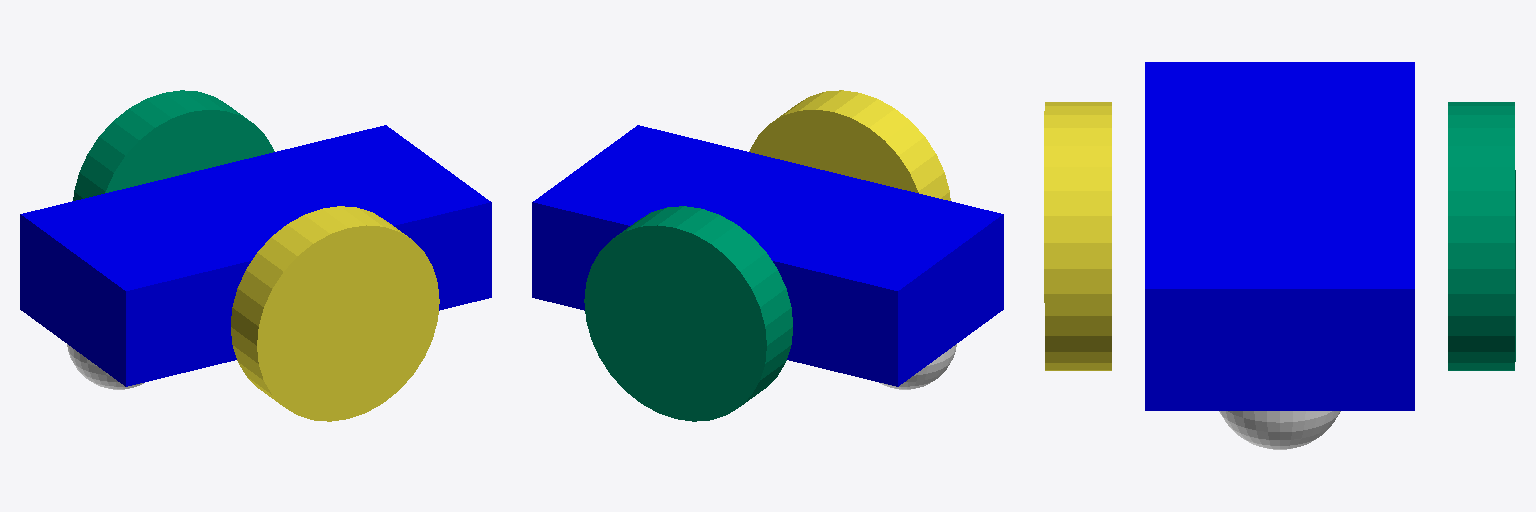
URDF robot description (diffrobot):
<?xml version='1.0'?>

<robot name="diffrobot">

  
<link name="robot_footprint">
</link>

    
    <joint name="robot_footprint_joint" type="fixed">
        <origin xyz="0 0 0.0" rpy="0 0 0" />
        <parent link="robot_footprint"/>
        <child link="base_link"/>
    </joint>

    <link name="base_link">
        <inertial>
            <origin xyz="0.0 0.0 0.0" rpy="0.0 0.0 0.0"/>
            <mass value="5.0"/>
            <inertia ixx="0.0" ixy="0.0" ixz="0.0" iyy="0.0" iyz="0.0" izz="0.0"/>
        </inertial>
        <visual name="base_link_visual">
            <origin xyz="0.0 0.0 0.0" rpy="0.0 0.0 0.0"/>
            <geometry>
                <box size="0.4 0.2 0.1"/>
            </geometry>
            <material name="">
                <color rgba="0.0 0.0 1.0 1.0"/>
                <texture filename=""/>
            </material>
        </visual>
        <collision>
            <origin xyz="0.0 0.0 0.0" rpy="0.0 0.0 0.0"/>
            <geometry>
                <box size="0.4 0.2 0.1"/>
            </geometry>
        </collision>
    </link>

    <link name="left_wheel">
        <inertial>
            <origin xyz="0.0 0.0 0.0" rpy="0.0 1.5707 1.5707"/>
            <mass value="5.0"/>
            <inertia ixx="0.1" ixy="0.0" ixz="0.0" iyy="0.1" iyz="0.0" izz="0.1"/>
        </inertial>
        <visual name="left_wheel_visual">
            <origin xyz="0.0 0.0 0.0" rpy="0.0 0.0 0.0"/>
            <geometry>
                <cylinder radius="0.1" length="0.05"/>
            </geometry>
        </visual>
        <collision name='left_wheel_collision'>
            <origin xyz="0.0 0.0 0.0" rpy="0.0 0.0 0.0"/>
            <geometry>
                <cylinder radius="0.1" length="0.05"/>
            </geometry>
        </collision>
    </link>

    <link name="right_wheel">
        <inertial>
            <origin xyz="0.0 0.0 0.0" rpy="0.0 0.0 0.0"/>
            <mass value="5.0"/>
            <inertia ixx="0.1" ixy="0.0" ixz="0.0" iyy="0.1" iyz="0.0" izz="0.1"/>
        </inertial>
        <visual name="right_wheel_visual">
            <origin xyz="0.0 0.0 0.0" rpy="0.0 0.0 0.0"/>
            <geometry>
                <cylinder radius="0.1" length="0.05"/>
            </geometry>
        </visual>
        <collision name='right_wheel_collision'>
            <origin xyz="0.0 0.0 0.0" rpy="0.0 0.0 0.0"/>
            <geometry>
                <cylinder radius="0.1" length="0.05"/>
            </geometry>
        </collision>
    </link>

    <joint name="wheel_left_joint" type="continuous">
        <origin xyz="0.0 0.15 0.0" rpy="0.0 1.5705 1.5705"/>
        <parent link="base_link"/>
        <child link="left_wheel"/>
        <axis xyz="0.0 0.0 1.0"/>

    </joint>


    <joint name="wheel_right_joint" type="continuous">
        <origin xyz="0.0 -0.15 0.0" rpy="0.0 1.5705 1.5705"/>
        <parent link="base_link"/>
        <child link="right_wheel"/>
        <axis xyz="0.0 0.0 1.0"/>

    </joint>


    <link name="front_caster">
        <inertial>
            <origin xyz="0.0 0.0 0.0" rpy="0.0 0.0 0.0"/>
            <mass value="0.2"/>
            <inertia ixx="0.002526666666667" ixy="0" ixz="0" iyy="0.002526666666667" iyz="0" izz="0.005"/>
        </inertial>
        <visual name="front_caster_visual">
            <origin xyz="0.0 0.0 0.0" rpy="0.0 0.0 0.0"/>
            <geometry>
                <sphere radius="0.0499"/>
            </geometry>
            <material name="">
                <color rgba="1.0 1.0 1.0 1.0"/>
                <texture filename=""/>
            </material>
        </visual>
        <collision>
            <origin xyz="0.0 0.0 0.0" rpy="0.0 0.0 0.0"/>
            <geometry>
                <sphere radius="0.0499"/>
            </geometry>
        </collision>
    </link>

    <joint name="front_caster_joint" type="fixed">
        <origin xyz="0.15 0.0 -0.05" rpy="0.0 0.0 0.0"/>
        <parent link="base_link"/>
        <child link="front_caster"/>
        <axis xyz="0.0 0.0 0.0"/>


    </joint>

    <gazebo reference="front_caster_joint">
        <preserveFixedJoint>true</preserveFixedJoint>
    </gazebo>
    <link name="back_caster">
            <inertial>
                <origin xyz="0.0 0.0 0.0" rpy="0.0 0.0 0.0"/>
                <mass value="0.2"/>
                <inertia ixx="0.002526666666667" ixy="0" ixz="0" iyy="0.002526666666667" iyz="0" izz="0.005"/>
            </inertial>
            <visual name="back_caster_visual">
                <origin xyz="0.0 0.0 0.0" rpy="0.0 0.0 0.0"/>
                <geometry>
                    <sphere radius="0.0499"/>
                </geometry>
                <material name="">
                    <color rgba="1.0 1.0 1.0 1.0"/>
                    <texture filename=""/>
                </material>
            </visual>
            <collision>
                <origin xyz="0.0 0.0 0.0" rpy="0.0 0.0 0.0"/>
                <geometry>
                    <sphere radius="0.0499"/>
                </geometry>
            </collision>
    </link>

    <joint name="back_caster_joint" type="fixed">
        <origin xyz="-0.15 0.0 -0.05" rpy="0.0 0.0 0.0"/>
        <parent link="base_link"/>
        <child link="back_caster"/>
        <axis xyz="0.0 0.0 0.0"/>



    </joint>
    <gazebo reference="back_caster_joint">
        <preserveFixedJoint>true</preserveFixedJoint>
    </gazebo>

    <link name="lidar_link">
        <inertial>
            <origin xyz="0.0 0.0 0.0" rpy="0.0 0.0 0.0"/>
            <mass value="0.1"/>
            <inertia ixx="0.002526666666667" ixy="0" ixz="0" iyy="0.002526666666667" iyz="0" izz="0.005"/>
        </inertial>
        <visual name="lidar_link_visual">
            <origin xyz="0.0 0.0 0.0" rpy="0.0 0.0 0.0"/>
            <geometry>
                <mesh filename="package://diffrobot_description/meshes/lidar_link.STL"/>
            </geometry>
            <material name="">
                <color rgba="1.0 0.0 0.0 1.0"/>
                <texture filename=""/>
            </material>
        </visual>
        <collision>
            <origin xyz="0.0 0.0 0.0" rpy="0.0 0.0 0.0"/>
            <geometry>
                <box size="0.1 0.1 0.1"/>
            </geometry>
        </collision>
    </link>

    <joint name="lidar_joint" type="fixed">
        <origin xyz="0.11 0.0 0.12" rpy="1.5708 0.0 1.5708"/>
        <parent link="base_link"/>
        <child link="lidar_link"/>
    </joint>

    <link name="laser">
        <inertial>
            <origin xyz="0.0 0.0 0.0" rpy="0.0 0.0 0.0"/>
            <mass value="0.1"/>
            <inertia ixx="0.002526666666667" ixy="0" ixz="0" iyy="0.002526666666667" iyz="0" izz="0.005"/>
        </inertial>
        
    </link>

    <joint name="laser_data_joint" type="fixed">
        <origin xyz="0.0 0.0 0.0" rpy="0.0 -1.5708 -1.5708"/>
        <parent link="lidar_link"/>
        <child link="laser"/>
    </joint>


    <link name="imu_link">
        <inertial>
            <origin xyz="0.0 0.0 0.0" rpy="0.0 0.0 0.0"/>
            <mass value="0.0"/>
            <inertia ixx="0.002526666666667" ixy="0" ixz="0" iyy="0.002526666666667" iyz="0" izz="0.005"/>
        </inertial>
        <visual name="">
            <origin xyz="0.0 0.0 0.0" rpy="0.0 0.0 0.0"/>
            <geometry>
                <box size="0.02 0.02 0.02"/>
            </geometry>
            <material name="">
                <color rgba="1.0 0.0 0.0 1.0"/>
                <texture filename=""/>
            </material>
        </visual>
        <collision>
            <origin xyz="0.0 0.0 0.0" rpy="0.0 0.0 0.0"/>
            <geometry>
                <box size="0.02 0.02 0.02"/>
            </geometry>
        </collision>
    </link>
    <joint name="imu_joint" type="fixed">
        <origin xyz="0.0 0.0 0.0" rpy="0.0 0.0 0.0"/>
        <parent link="base_link"/>
        <child link="imu_link"/>
    </joint>





<!-- Materials and friction -->

<gazebo reference="base_link">
    <visual>
        <material> <!-- Blue -->
            <ambient>0.0 0.0 1.0 1.0</ambient>
            <diffuse>0.0 0.0 1.0 1.0</diffuse>
            <specular>0.0 0.0 0.0 1.0</specular>
            <emissive>0.0 0.0 0.0 1.0</emissive>
        </material>
    </visual>
    
</gazebo>

<gazebo reference="right_wheel">
    <visual>
        <material> <!-- Gray -->
            <ambient>0.25 0.25 0.25 1.0</ambient>
            <diffuse>0.25 0.25 0.25 1.0</diffuse>
            <specular>0.0 0.0 0.0 1.0</specular>
            <emissive>0.0 0.0 0.0 1.0</emissive>
        </material>
    </visual>
    <collision>
        <surface>
            <friction>
                <ode>
                    <mu>0.0</mu>
                    <mu2>0.0</mu2>
                </ode>
            </friction>
        </surface>
    </collision>
</gazebo>
<gazebo reference="left_wheel">
    <visual>
        <material> <!-- Black -->
            <ambient>0.1 0.1 0.1 1.0</ambient>
            <diffuse>0.1 0.1 0.1 1.0</diffuse>
            <specular>0.0 0.0 0.0 1.0</specular>
            <emissive>0.0 0.0 0.0 1.0</emissive>
        </material>
    </visual>
    <collision>
        <surface>
            <friction>
                <ode>
                    <mu>0.0</mu>
                    <mu2>0.0</mu2>
                </ode>
            </friction>
        </surface>
    </collision>
</gazebo>
<gazebo reference="front_caster">
    <visual>
        <material> <!-- Black -->
            <ambient>0.1 0.1 0.1 1.0</ambient>
            <diffuse>0.1 0.1 0.1 1.0</diffuse>
            <specular>0.0 0.0 0.0 1.0</specular>
            <emissive>0.0 0.0 0.0 1.0</emissive>
        </material>
    </visual>
    <collision>
        <surface>
            <friction>
                <ode>
                    <mu>1.0</mu>
                    <mu2>1.0</mu2>
                </ode>
            </friction>
        </surface>
    </collision>
</gazebo>

<gazebo reference="back_caster">
    <visual>
        <material> <!-- Black -->
            <ambient>0.1 0.1 0.1 1.0</ambient>
            <diffuse>0.1 0.1 0.1 1.0</diffuse>
            <specular>0.0 0.0 0.0 1.0</specular>
            <emissive>0.0 0.0 0.0 1.0</emissive>
        </material>
    </visual>
    <collision>
        <surface>
            <friction>
                <ode>
                    <mu>1.0</mu>
                    <mu2>1.0</mu2>
                </ode>
            </friction>
        </surface>
    </collision>
</gazebo>

<gazebo reference="lidar_link">
    <visual>
        <material> <!-- Black -->
            <ambient>0.1 0.1 0.1 1.0</ambient>
            <diffuse>0.1 0.1 0.1 1.0</diffuse>
            <specular>0.0 0.0 0.0 1.0</specular>
            <emissive>0.0 0.0 0.0 1.0</emissive>
        </material>
    </visual>
</gazebo>


<!-- Differential Drive Plugin -->
<gazebo>
    <plugin
        filename="libignition-gazebo-diff-drive-system.so"
        name="ignition::gazebo::systems::DiffDrive">
        <left_joint>wheel_left_joint</left_joint>
        <right_joint>wheel_right_joint</right_joint>
        <wheel_separation>0.2</wheel_separation>
        <wheel_radius>0.1</wheel_radius>
        <odom_publish_frequency>20</odom_publish_frequency>
        <topic>cmd_vel</topic>
        <odom_topic>odom</odom_topic>
        <tf_topic>tf</tf_topic>
        <frame_id>odom</frame_id>
        <child_frame_id>robot_footprint</child_frame_id>
    </plugin>
</gazebo>

</robot>

--- What the picture shows (computed from the rendered views, not written in the file) ---
3 views of the same robot in one strip: view 1: azimuth 30°, elevation 25°; view 2: azimuth 150°, elevation 25°; view 3: azimuth 270°, elevation 25° (orthographic).
Robot: diffrobot — 9 links, 8 joints (2 continuous, 6 fixed); root link robot_footprint; default pose: every joint at zero.
Links seen in each view (by area): view 1: base_link, right_wheel, left_wheel, back_caster; view 2: base_link, left_wheel, right_wheel, back_caster; view 3: base_link, left_wheel, right_wheel, front_caster.
Link boxes in pixels (bbox=[...]): base_link: bbox=[20, 125, 491, 386]; right_wheel: bbox=[231, 206, 439, 421]; left_wheel: bbox=[73, 90, 274, 200]; back_caster: bbox=[67, 344, 143, 389]; base_link: bbox=[532, 125, 1003, 386]; left_wheel: bbox=[584, 206, 792, 421]; right_wheel: bbox=[749, 90, 950, 200]; back_caster: bbox=[880, 344, 956, 389]; base_link: bbox=[1145, 62, 1414, 410]; left_wheel: bbox=[1448, 102, 1515, 370]; right_wheel: bbox=[1044, 102, 1111, 370]; front_caster: bbox=[1219, 411, 1340, 449].
Bounding box of the posed robot: 0.4 × 0.3501 × 0.2 m (x, y, z).
Meshes: 1 distinct files referenced, 0 mesh visuals loaded (none loaded); not drawn: 1 (reference not matched to a file when rendering).